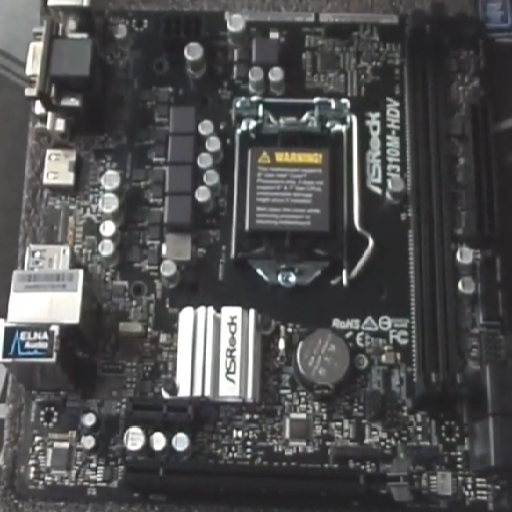CPU: (228, 94, 360, 287)
GPU: (121, 457, 414, 500)
MOTHERBOARD: (3, 1, 512, 504)
RAM: (400, 15, 473, 396)
